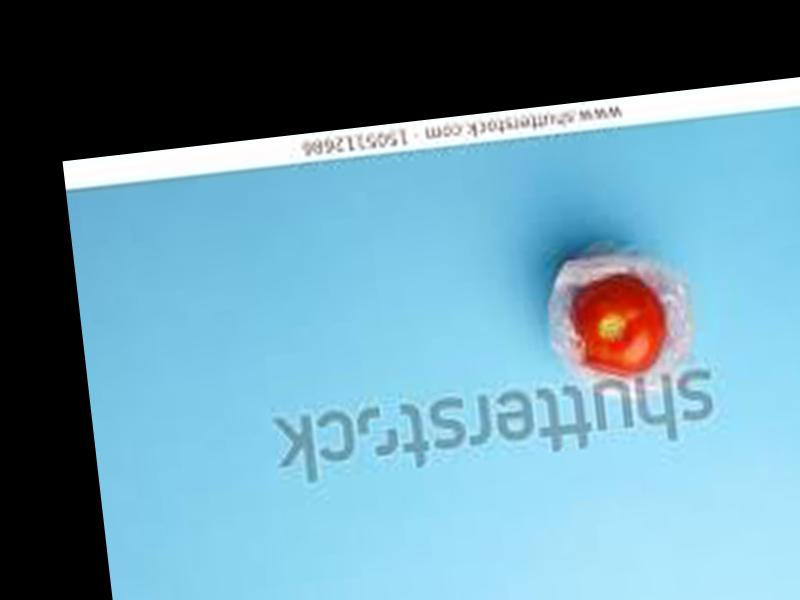Tomato: (565, 272, 668, 381)
